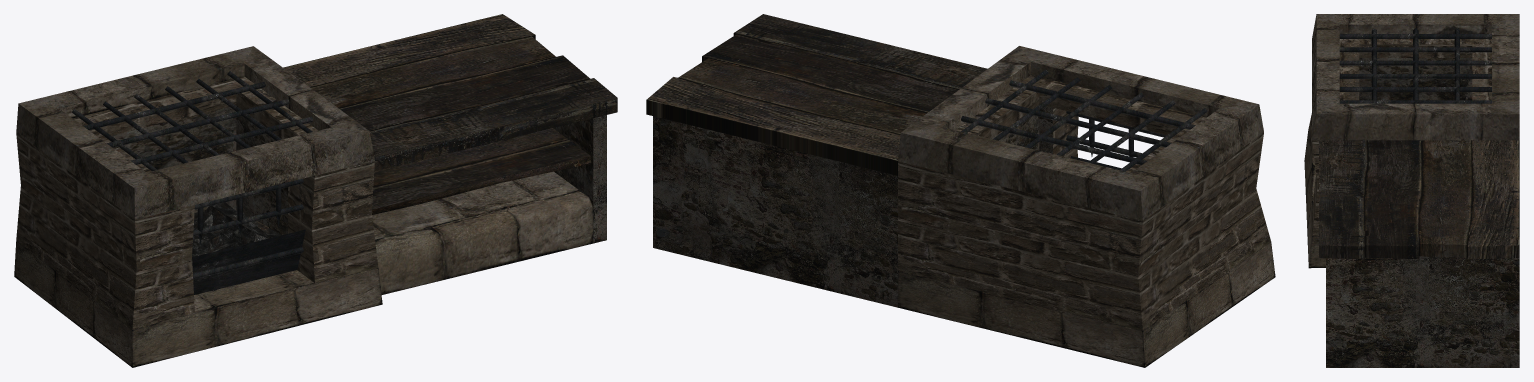
The model's file is G3_Object_Fireplace_04.obj.
The picture shows the model from 3 angles, left to right: view 1: azimuth 30°, elevation 25°; view 2: azimuth 150°, elevation 25°; view 3: azimuth 270°, elevation 25°; orthographic projection. The views are drawn at different scales.
Parts seen in each view (by area): view 1: G3_Object_Fireplace_04_1, G3_Object_Fireplace_04_5, G3_Object_Fireplace_04_0, G3_Object_Fireplace_04_4, G3_Object_Fireplace_04_2, G3_Object_Fireplace_04_3; view 2: G3_Object_Fireplace_04_0, G3_Object_Fireplace_04_1, G3_Object_Fireplace_04_2, G3_Object_Fireplace_04_5, G3_Object_Fireplace_04_4; view 3: G3_Object_Fireplace_04_2, G3_Object_Fireplace_04_5, G3_Object_Fireplace_04_1, G3_Object_Fireplace_04_4, G3_Object_Fireplace_04_0.
Boxes of the visible parts, x1,y1,x2,y2 form: G3_Object_Fireplace_04_1: [14, 46, 593, 367]; G3_Object_Fireplace_04_5: [283, 14, 617, 214]; G3_Object_Fireplace_04_0: [16, 76, 378, 329]; G3_Object_Fireplace_04_4: [72, 71, 313, 294]; G3_Object_Fireplace_04_2: [111, 105, 606, 243]; G3_Object_Fireplace_04_3: [192, 202, 281, 291]; G3_Object_Fireplace_04_0: [898, 75, 1270, 330]; G3_Object_Fireplace_04_1: [898, 46, 1275, 367]; G3_Object_Fireplace_04_2: [653, 104, 1052, 307]; G3_Object_Fireplace_04_5: [646, 14, 987, 175]; G3_Object_Fireplace_04_4: [961, 69, 1207, 171]; G3_Object_Fireplace_04_2: [1326, 58, 1519, 367]; G3_Object_Fireplace_04_5: [1319, 140, 1519, 259]; G3_Object_Fireplace_04_1: [1304, 14, 1519, 268]; G3_Object_Fireplace_04_4: [1339, 28, 1491, 103]; G3_Object_Fireplace_04_0: [1308, 39, 1491, 235].
Bounding box in the file's own units: 3.26 × 1.08 × 1.4.
